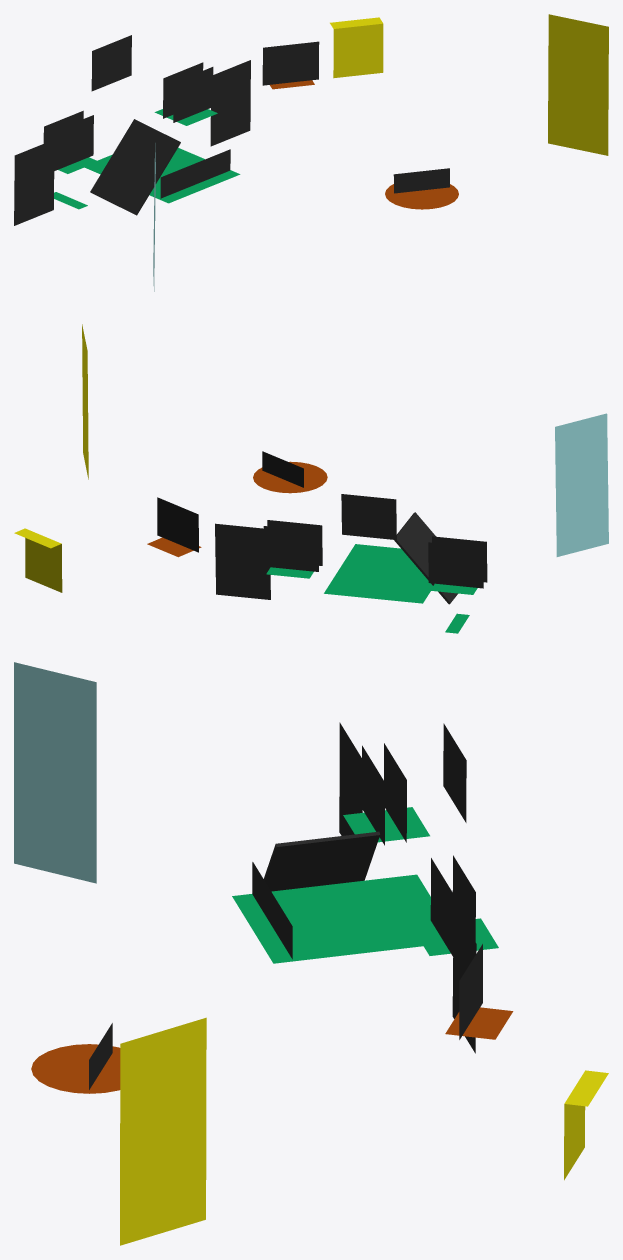
The model's file is room1_addelements_sopening.fbx.
The picture shows the model from 3 angles, top to bottom: view 1: azimuth 30°, elevation 25°; view 2: azimuth 150°, elevation 25°; view 3: azimuth 270°, elevation 25°; orthographic projection. The views are drawn at different scales.
Parts seen in each view (by area): view 1: OBJ_hoteldoor, OBJ_painting, OBJ_plantL, OBJ_plantR, OBJ_laundrychute_F, OBJ_phone, OBJ_detailobjR, OBJ_detailobjL, OBJ_safedoor, INV_OBJ_bedtopholder, OBJ_towels, INV_OBJ_coffeetable_T (+3 smaller); view 2: OBJ_window, INV_OBJ_bedtopholder, OBJ_plantR, OBJ_lampL, OBJ_safedoor, OBJ_lampR, OBJ_phone, OBJ_laundrychute_F, OBJ_painting, INV_OBJ_coffeetable_T, OBJ_notepad, OBJ_hoteldoor (+3 smaller); view 3: OBJ_hoteldoor, OBJ_window, INV_OBJ_bedtopholder, OBJ_painting, INV_OBJ_coffeetable_T, OBJ_plantL, OBJ_safedoor, OBJ_detailobjR, OBJ_detailobjL, OBJ_plantR, OBJ_lampL, OBJ_phone (+7 smaller).
Boxes of the visible parts, left/top/right/bottom form: OBJ_hoteldoor: left=548, top=14, right=608, bottom=155; OBJ_painting: left=90, top=119, right=180, bottom=215; OBJ_plantL: left=14, top=140, right=54, bottom=225; OBJ_plantR: left=210, top=60, right=250, bottom=146; OBJ_laundrychute_F: left=333, top=23, right=383, bottom=78; OBJ_phone: left=262, top=41, right=319, bottom=85; OBJ_detailobjR: left=173, top=67, right=213, bottom=122; OBJ_detailobjL: left=53, top=115, right=93, bottom=171; OBJ_safedoor: left=91, top=35, right=131, bottom=91; INV_OBJ_bedtopholder: left=84, top=147, right=240, bottom=203; OBJ_towels: left=160, top=149, right=230, bottom=198; INV_OBJ_coffeetable_T: left=385, top=184, right=458, bottom=209; OBJ_window: left=555, top=413, right=608, bottom=556; INV_OBJ_bedtopholder: left=324, top=544, right=432, bottom=603; OBJ_plantR: left=215, top=523, right=270, bottom=599; OBJ_lampL: left=428, top=542, right=483, bottom=588; OBJ_safedoor: left=341, top=494, right=396, bottom=539; OBJ_lampR: left=263, top=526, right=318, bottom=571; OBJ_phone: left=157, top=497, right=198, bottom=552; OBJ_laundrychute_F: left=25, top=538, right=62, bottom=592; OBJ_painting: left=394, top=512, right=457, bottom=604; INV_OBJ_coffeetable_T: left=253, top=461, right=327, bottom=493; OBJ_notepad: left=262, top=451, right=303, bottom=487; OBJ_hoteldoor: left=82, top=324, right=88, bottom=479; OBJ_hoteldoor: left=120, top=1017, right=206, bottom=1245; OBJ_window: left=14, top=662, right=96, bottom=883; INV_OBJ_bedtopholder: left=232, top=874, right=432, bottom=963; OBJ_painting: left=264, top=831, right=379, bottom=891; INV_OBJ_coffeetable_T: left=31, top=1044, right=120, bottom=1093; OBJ_plantL: left=339, top=722, right=362, bottom=835; OBJ_safedoor: left=443, top=723, right=466, bottom=822; OBJ_detailobjR: left=430, top=858, right=453, bottom=957; OBJ_detailobjL: left=362, top=745, right=384, bottom=845; OBJ_plantR: left=452, top=907, right=476, bottom=1053; OBJ_lampL: left=384, top=743, right=406, bottom=842; OBJ_phone: left=459, top=944, right=482, bottom=1039.
Size of the model in its own units: 87.01 by 54.19 by 21.15.
